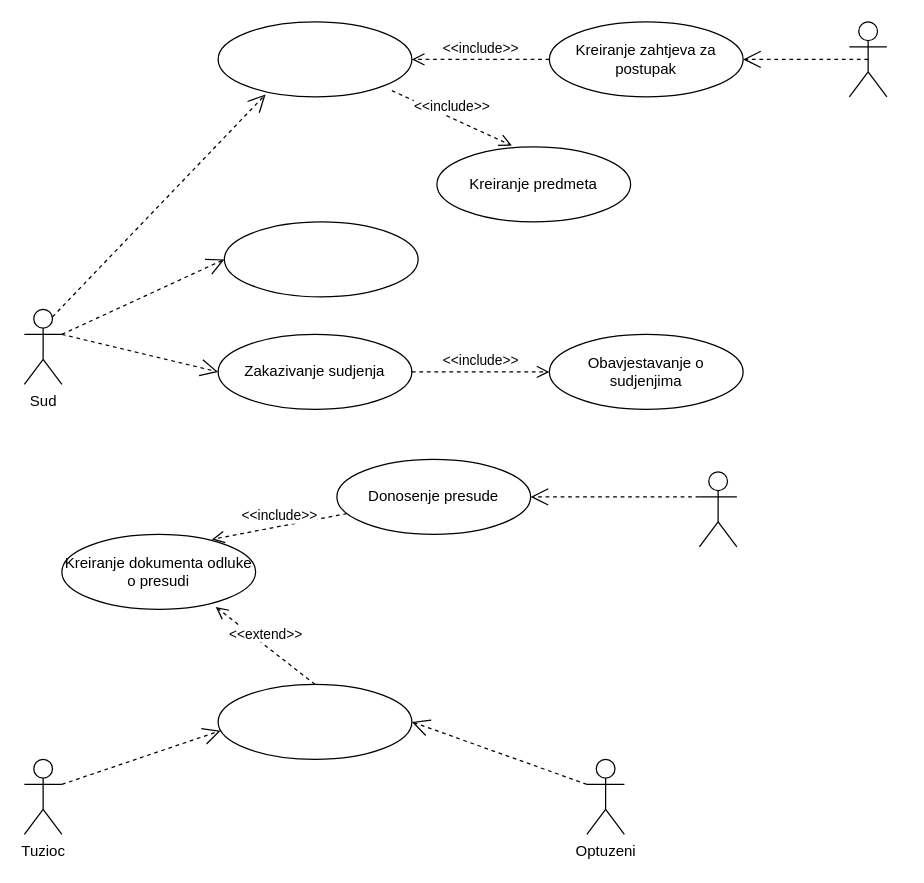
This 924x883 diagram has some shape labels left out. Each missing label, with the box of its shape:
Arhiviranje donijete presude: (217, 683, 412, 759)
Dobavljanje zahtjeva za postupak: (217, 21, 412, 97)
Dodjela predmeta sudijama: (223, 221, 418, 297)
Sudija: (698, 471, 737, 547)
Tuzilastvo: (848, 21, 887, 97)
